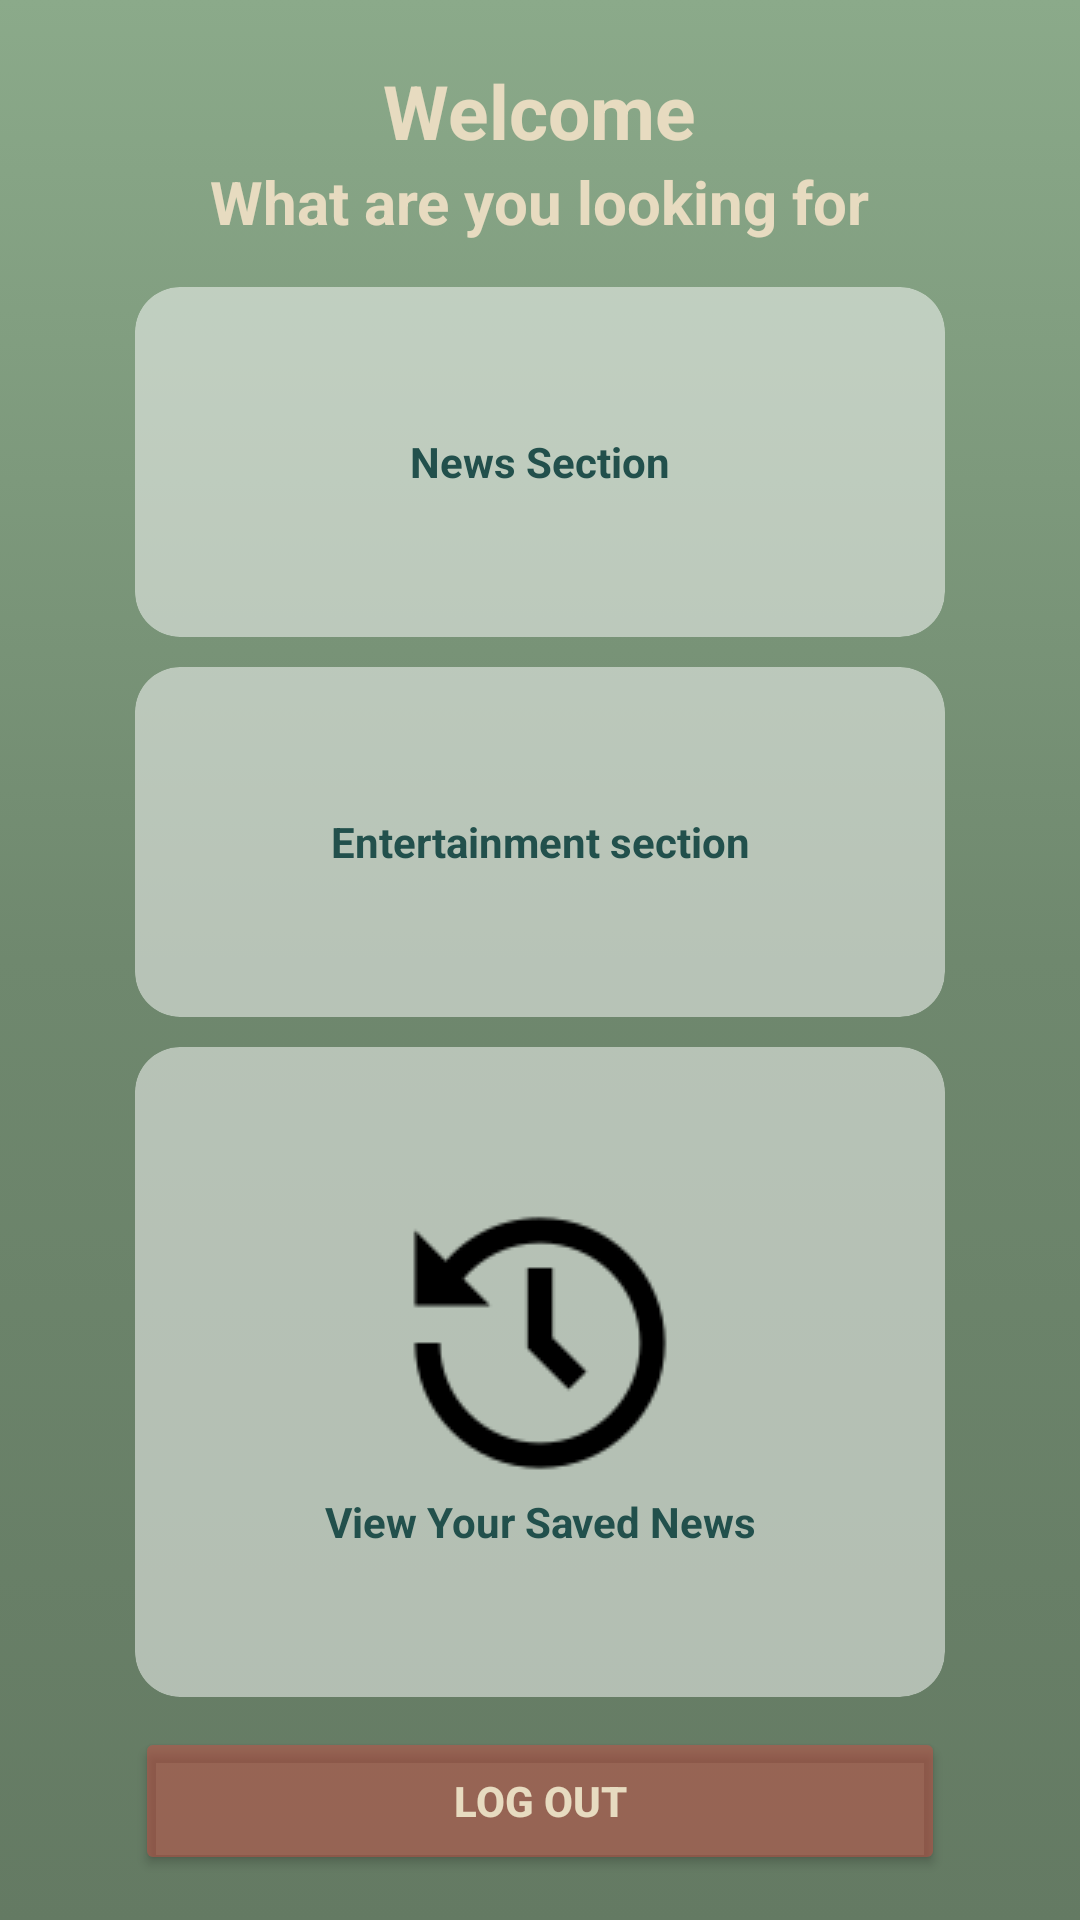

Icons on this 1080 × 1920 Android screen, each with its box as detection(x1, y1, x2, y2):
icon of going back in time: detection(413, 1216, 667, 1470)
